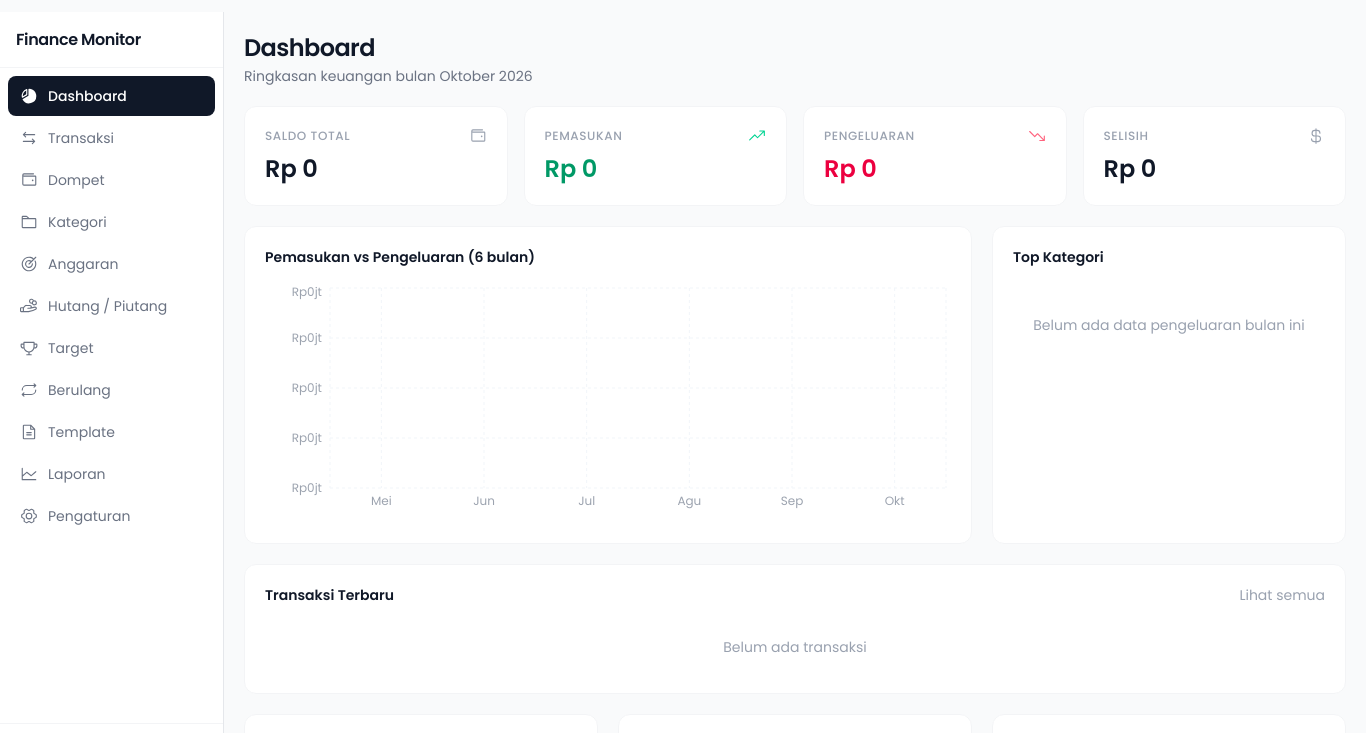
Navigation Integration › navigasi ke halaman Transaksi saat link diklik
What coordinates should you click on to do the following:
click the link "Transaksi"
I would click on:
 (67, 138)
Its box is [20, 128, 114, 148].
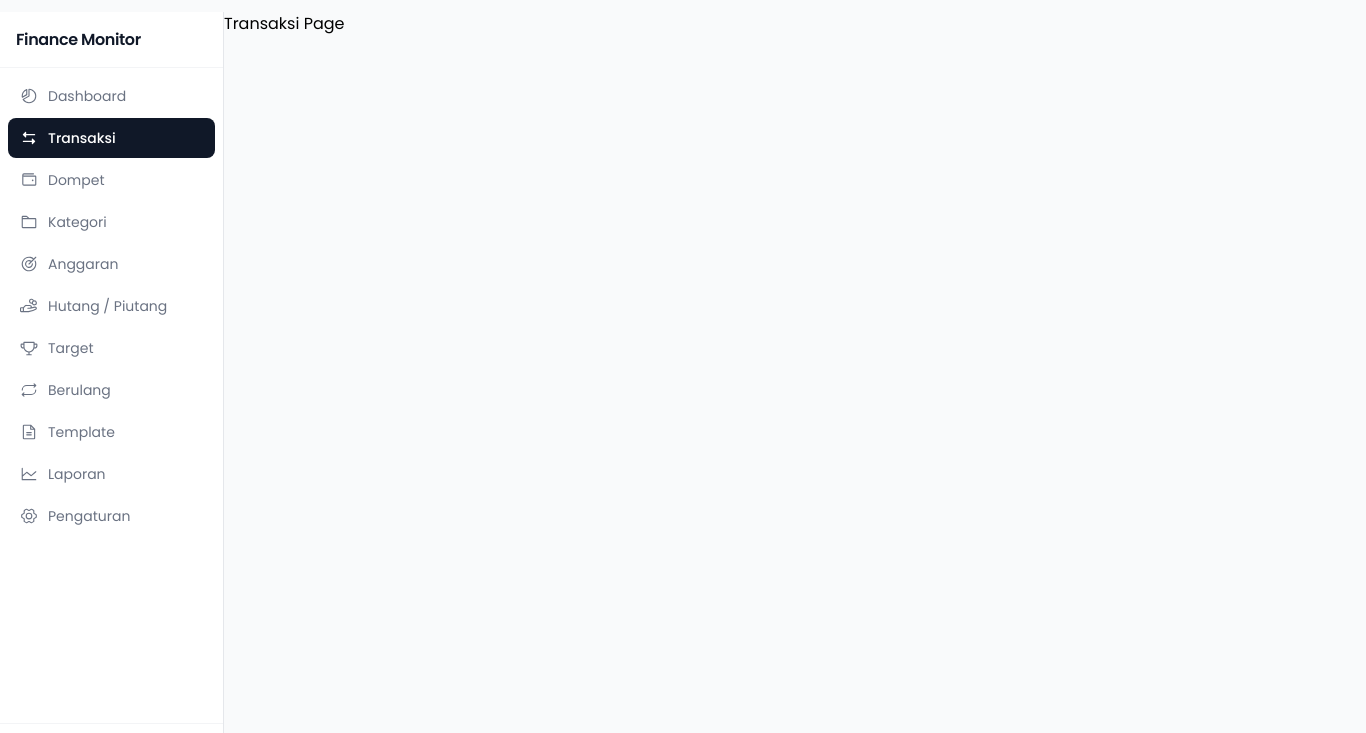
Check: the text "Transaksi Page" is shown, box [224, 12, 344, 35]
